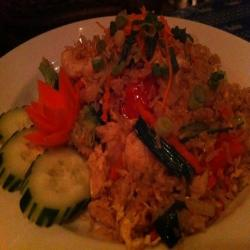rice: (112, 91, 240, 231)
